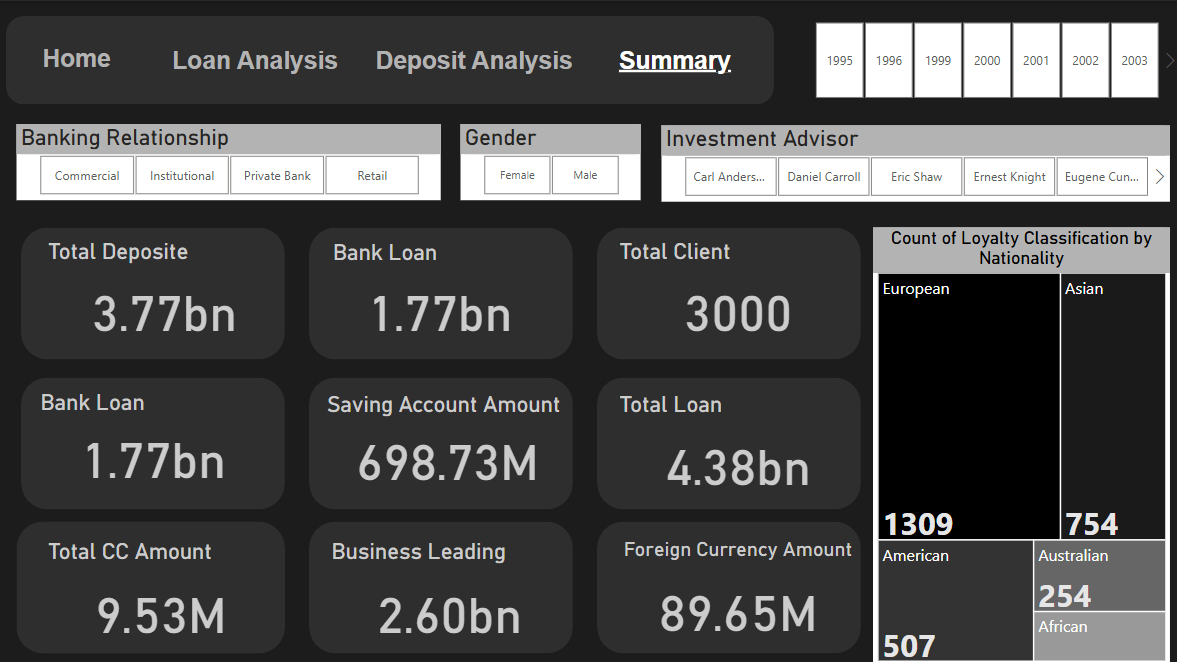

This screenshot's page, from the dashboard's own definition file:
{"tool":"powerbi","page":{"name":"Summary","canvas":[1280,720],"ordinal":3},"visuals":[{"type":"slicer","fields":{"Values":["Banking_Clients.year of joining"]},"box":[858.7,16.3,421.3,96],"z":0},{"type":"slicer","title":"Investment Advisor","fields":{"Values":["Investment Advisor.Investment Advisor"]},"box":[717.3,135,551.4,83],"z":1000},{"type":"slicer","title":"Gender","fields":{"Values":["Banking_Clients.GenderId"]},"box":[499.3,133.4,195.2,83],"z":2000},{"type":"slicer","title":"Banking Relationship","fields":{"Values":["Banking_Clients.BRId"]},"box":[17.9,133.4,460.3,83],"z":3000},{"type":"shape","box":[6.5,16.3,832.8,96],"z":4000},{"type":"textbox","box":[17.9,42.3,130.1,42.3],"z":5000},{"type":"textbox","box":[165.9,43.9,221.2,45.5],"z":6000},{"type":"textbox","box":[388.7,43.9,250.5,40.7],"z":7000},{"type":"textbox","box":[639.2,43.9,185.4,45.5],"z":8000},{"type":"shape","box":[22.8,245.6,286.3,143.1],"z":9000},{"type":"shape","box":[647.4,245.6,286.3,143.1],"z":10000},{"type":"shape","box":[335.1,245.6,286.3,143.1],"z":11000},{"type":"shape","box":[22.8,408.3,286.3,143.1],"z":12000},{"type":"shape","box":[17.9,564.4,291.2,143.1],"z":13000},{"type":"shape","box":[335.1,564.4,286.3,143.1],"z":14000},{"type":"shape","box":[647.4,564.4,286.3,143.1],"z":15000},{"type":"shape","box":[647.4,408.3,286.3,143.1],"z":16000},{"type":"shape","box":[335.1,408.3,286.3,143.1],"z":17000},{"type":"card","title":"Total CC Amount","fields":{"Values":["Banking_Clients.Credit Card Balance"]},"box":[47.2,582.3,253.7,125.2],"z":18000},{"type":"treemap","fields":{"Values":["Banking_Clients.Loyalty Classification"],"Group":["Banking_Clients.Nationality"]},"box":[946.6,245.6,322.1,475],"z":19000},{"type":"card","title":"Total Deposite","fields":{"Values":["Banking Relationship.Total Deposits"]},"box":[47.2,257,261.9,122],"z":20000},{"type":"card","title":"Total Client ","fields":{"Values":["Banking_Clients.Name"]},"box":[666.9,257,266.8,122],"z":21000},{"type":"card","title":"Total Loan ","fields":{"Values":["Banking_Clients.total loan"]},"box":[666.9,422.9,266.8,123.6],"z":22000},{"type":"card","title":"Business Leading","fields":{"Values":["Banking_Clients.Business Lending"]},"box":[354.6,582.3,265.1,125.2],"z":23000},{"type":"card","title":"Bank Loan","fields":{"Values":["Banking_Clients.Bank Loans"]},"box":[356.2,258.6,240.7,118.7],"z":24000},{"type":"card","title":"Bank Loan","fields":{"Values":["Banking_Clients.Bank Loans"]},"box":[39,421.3,253.7,112.2],"z":25000},{"type":"card","title":"Foreign Currency Amount","fields":{"Values":["Banking_Clients.Foreign Currency Account"]},"box":[666.9,582.3,266.8,125.2],"z":26000},{"type":"card","title":"Saving Account Amount","fields":{"Values":["Banking_Clients.Saving Accounts"]},"box":[349.7,422.9,270,112.2],"z":27000},{"type":"actionButton","box":[177.3,43.9,195.2,40.7],"z":28000},{"type":"actionButton","box":[393.6,42.3,245.6,42.3],"z":29000},{"type":"actionButton","box":[27.7,39,110.6,45.5],"z":30000}]}

Visuals, with their boxes in screenshot pixels (x1, y1, x2, y2), scaled from the page's 1280x720 canvas onto the 1177x662 screenshot:
slicer - Banking_Clients.year of joining: bbox=[790, 15, 1176, 103]
"Investment Advisor" slicer: bbox=[660, 124, 1167, 200]
"Gender" slicer: bbox=[459, 123, 639, 199]
"Banking Relationship" slicer: bbox=[16, 123, 440, 199]
shape: bbox=[6, 15, 772, 103]
textbox: bbox=[16, 39, 136, 78]
textbox: bbox=[153, 40, 356, 82]
textbox: bbox=[357, 40, 588, 78]
textbox: bbox=[588, 40, 758, 82]
shape: bbox=[21, 226, 284, 357]
shape: bbox=[595, 226, 859, 357]
shape: bbox=[308, 226, 571, 357]
shape: bbox=[21, 375, 284, 507]
shape: bbox=[16, 519, 284, 651]
shape: bbox=[308, 519, 571, 651]
shape: bbox=[595, 519, 859, 651]
shape: bbox=[595, 375, 859, 507]
shape: bbox=[308, 375, 571, 507]
"Total CC Amount" card: bbox=[43, 535, 277, 651]
treemap - Banking_Clients.Loyalty Classification x Banking_Clients.Nationality: bbox=[870, 226, 1167, 661]
"Total Deposite" card: bbox=[43, 236, 284, 348]
"Total Client " card: bbox=[613, 236, 859, 348]
"Total Loan " card: bbox=[613, 389, 859, 502]
"Business Leading" card: bbox=[326, 535, 570, 651]
"Bank Loan" card: bbox=[328, 238, 549, 347]
"Bank Loan" card: bbox=[36, 387, 269, 491]
"Foreign Currency Amount" card: bbox=[613, 535, 859, 651]
"Saving Account Amount" card: bbox=[322, 389, 570, 492]
actionButton: bbox=[163, 40, 343, 78]
actionButton: bbox=[362, 39, 588, 78]
actionButton: bbox=[25, 36, 127, 78]
